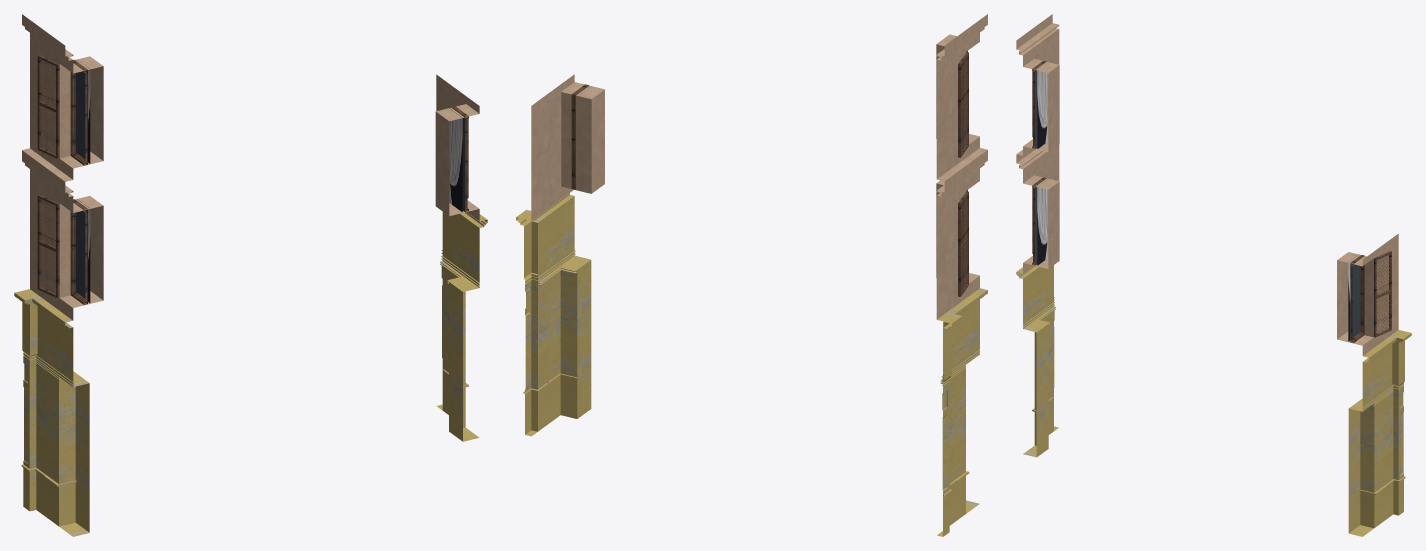
File: wall_chunk_b.fbx
3 views of the same model, side by side, from view 1: azimuth 30°, elevation 25°; view 2: azimuth 150°, elevation 25°; view 3: azimuth 330°, elevation 25° (orthographic). The views are drawn at different scales.
Parts seen in each view (by area): view 1: wall_chunk_b; view 2: wall_chunk_b; view 3: wall_chunk_b.
Boxes of the visible parts, left/top/right/bottom form: wall_chunk_b: left=14, top=14, right=487, bottom=536; wall_chunk_b: left=516, top=14, right=987, bottom=536; wall_chunk_b: left=1016, top=14, right=1411, bottom=536.
Size of the model in its own units: 1024 by 176 by 1103.
6 materials, 5 textured.
